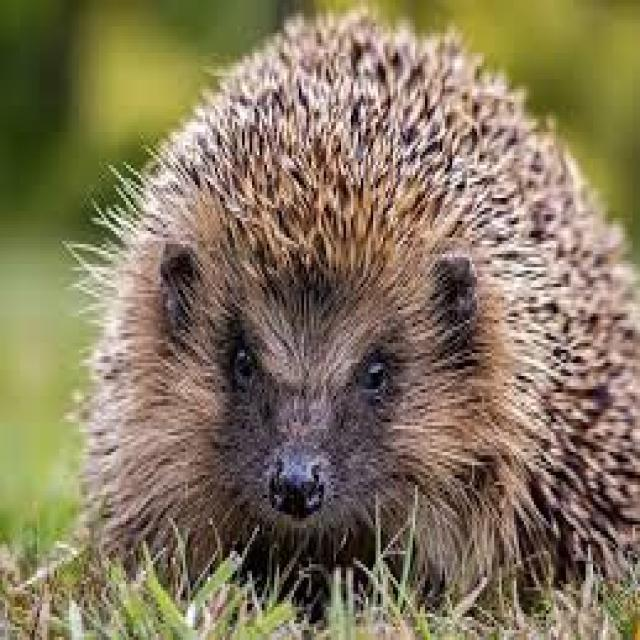Hedgehog: (82, 8, 640, 640)
